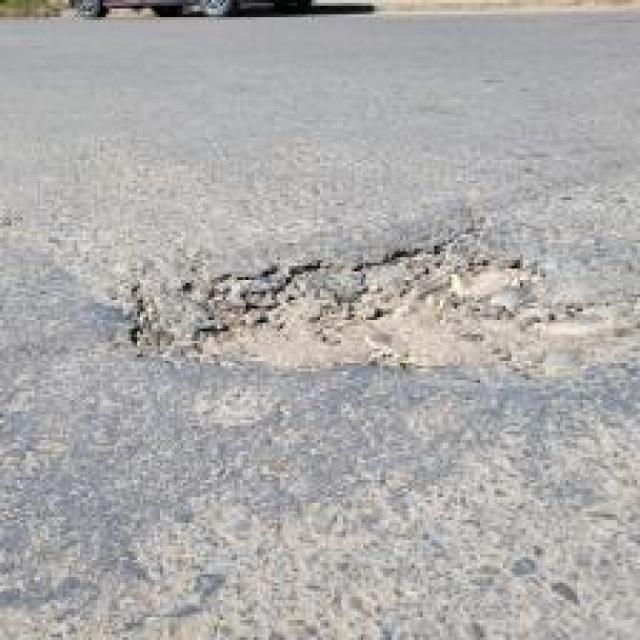BACHE: (116, 236, 639, 368)
PARCHE: (0, 250, 215, 552)
PIEL DE COCODRILO: (0, 406, 639, 639)
